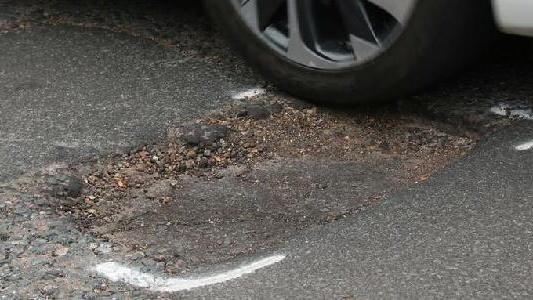pothole: (65, 91, 485, 244)
